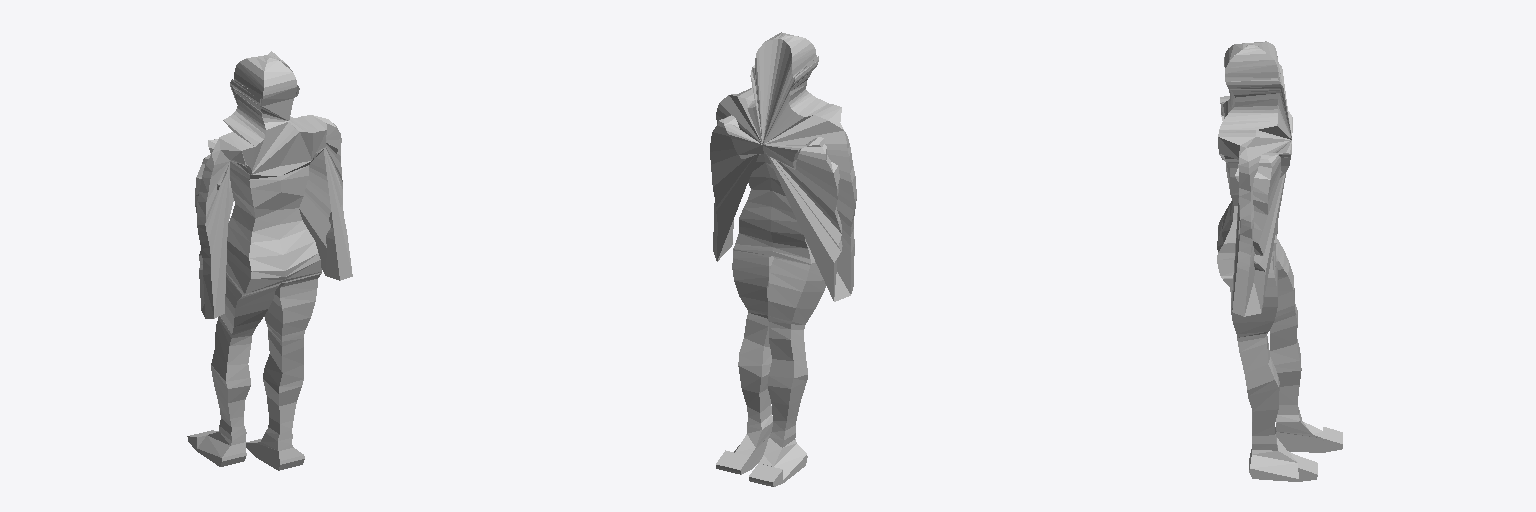
The model's file is woman_000039.obj.
3 renders of one model, left to right at view 1: azimuth 30°, elevation 25°; view 2: azimuth 150°, elevation 25°; view 3: azimuth 270°, elevation 25°, orthographic.
Visible parts, largest first — view 1: Cube_Cube.001; view 2: Cube_Cube.001; view 3: Cube_Cube.001.
Boxes of the visible parts, x1,y1,x2,y2 form: Cube_Cube.001: [187, 51, 352, 470]; Cube_Cube.001: [710, 32, 856, 486]; Cube_Cube.001: [1217, 41, 1342, 481].
Bounding box in the file's own units: 3.62 × 9.96 × 2.73.